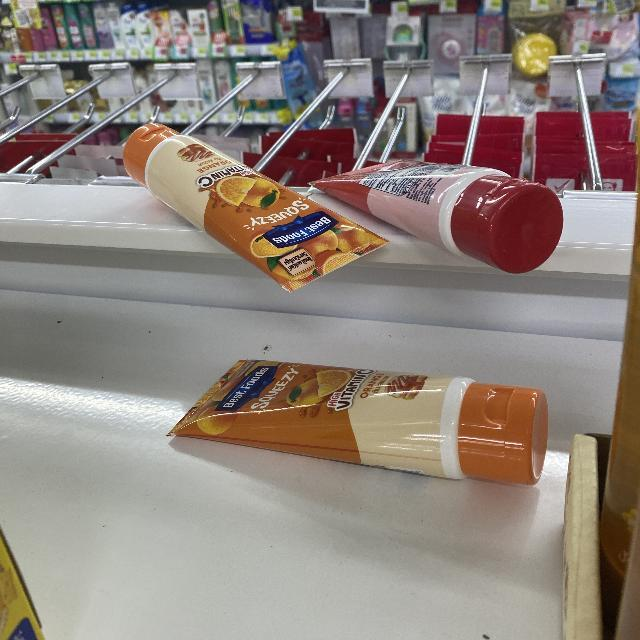Squeeze Tube: (112, 106, 579, 335), (145, 323, 581, 525)
